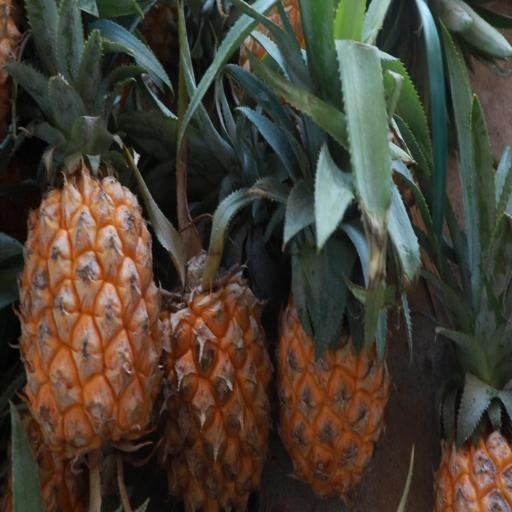Pineapple - v8 v1: (17, 156, 167, 476), (272, 177, 395, 502), (149, 247, 278, 512), (429, 293, 512, 511)
